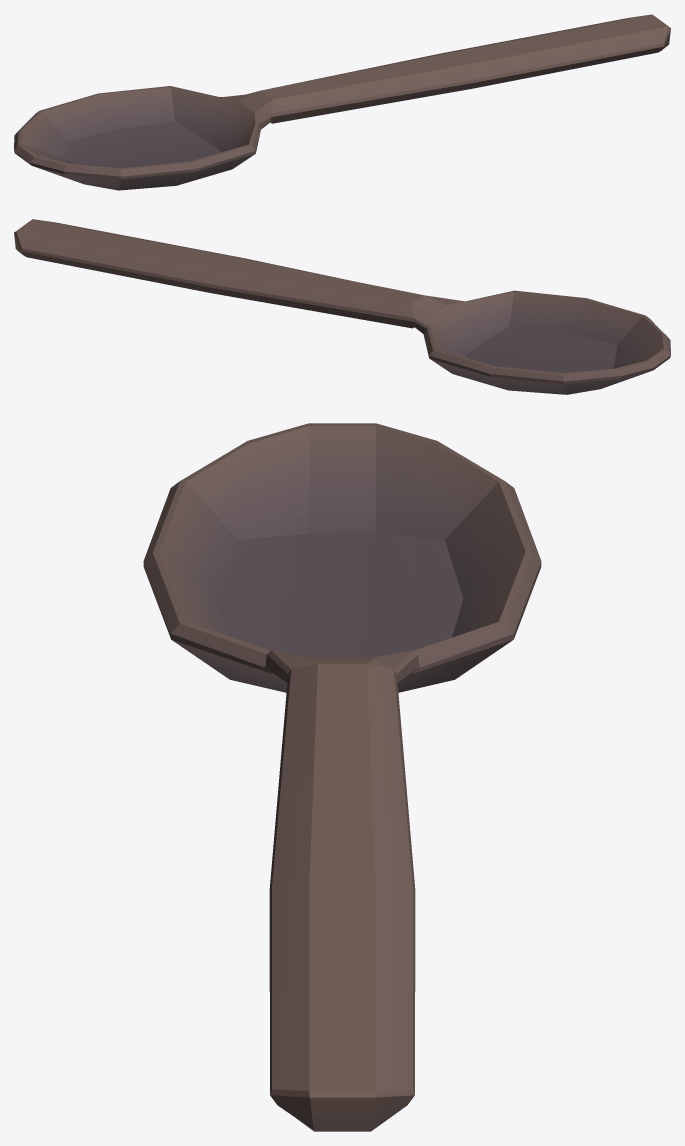
The model's file is SM_Spoon.fbx.
3 views of the same model, one above another, from view 1: azimuth 30°, elevation 25°; view 2: azimuth 150°, elevation 25°; view 3: azimuth 270°, elevation 25° (orthographic). The views are drawn at different scales.
Parts seen in each view (by area): view 1: spoon; view 2: spoon; view 3: spoon.
Part boxes in pixels (bbox=[...]): spoon: bbox=[14, 14, 670, 190]; spoon: bbox=[14, 219, 670, 394]; spoon: bbox=[143, 423, 541, 1131].
Bounding box in the file's own units: 31.58 × 2.21 × 8.5.
